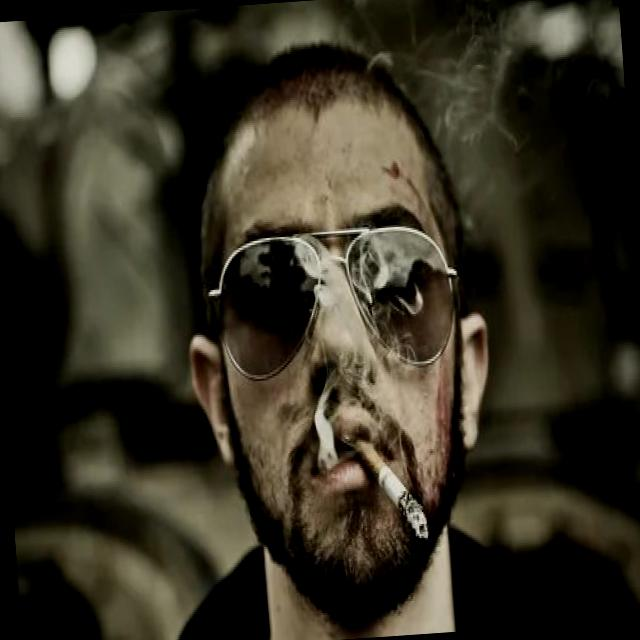cigarette: (350, 423, 437, 548)
